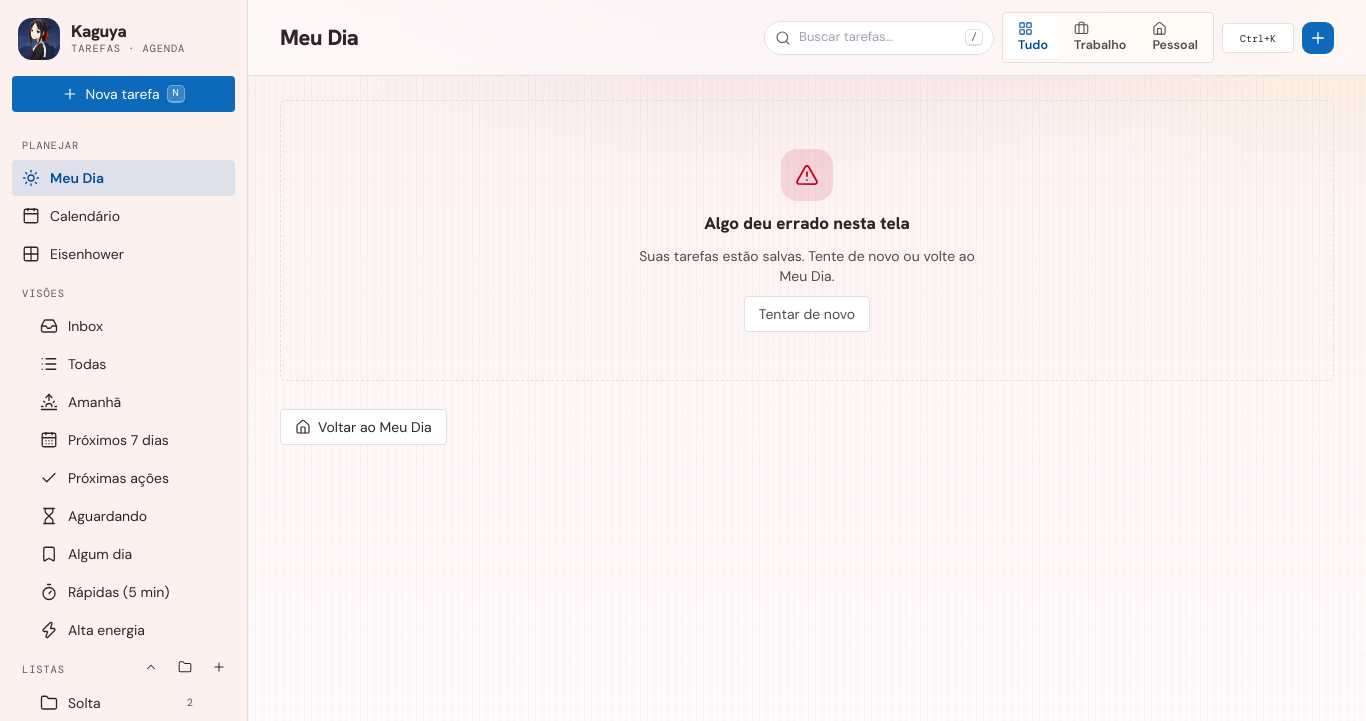
it: Barra lateral › “Recolher todos” e “Expandir todos”
The image size is (1366, 721).
Check: the text "Solta" is shown, box [68, 692, 101, 713]
Click the button named "Recolher todos os grupos".
click(151, 666)  # box [135, 650, 167, 682]
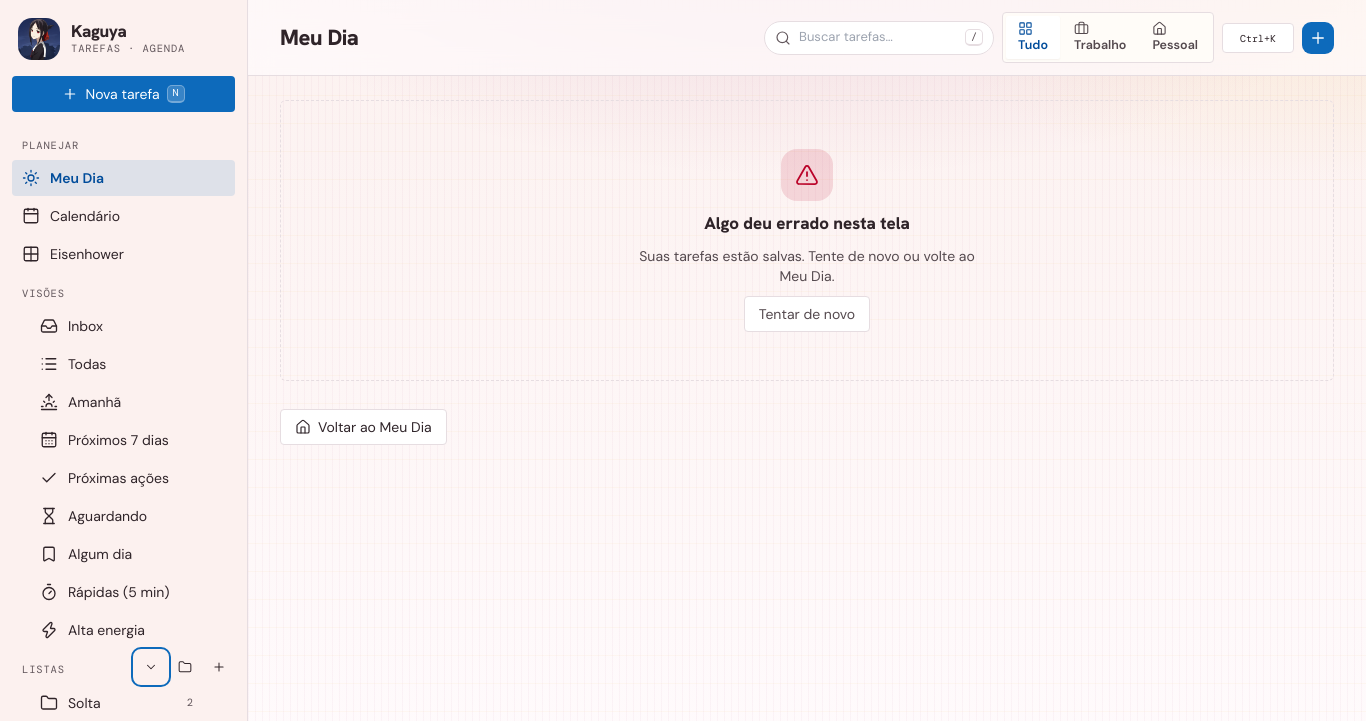
Check: the button "Reforma" is not shown
Click the button named "Expandir todos os grupos".
click(151, 666)  # box [135, 650, 167, 682]
(page scrolled)
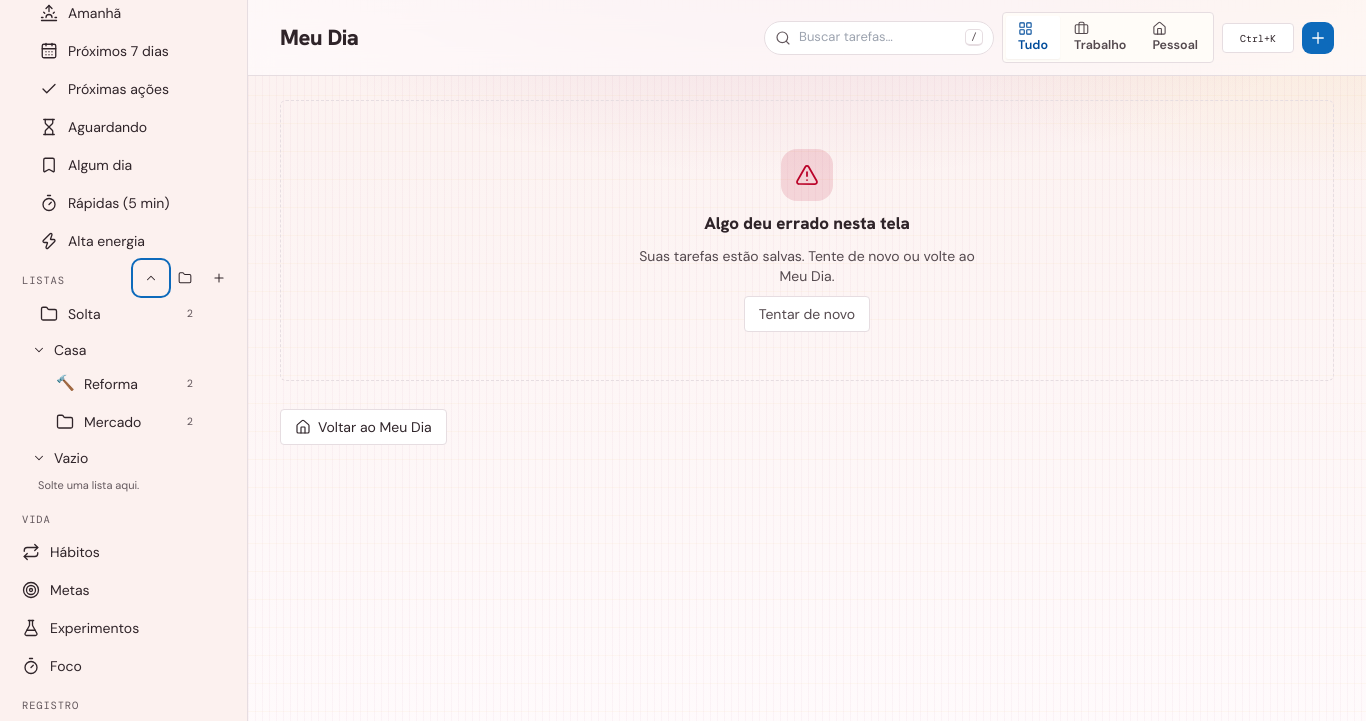
Check: the text "Reforma" is shown, box [84, 374, 138, 394]
